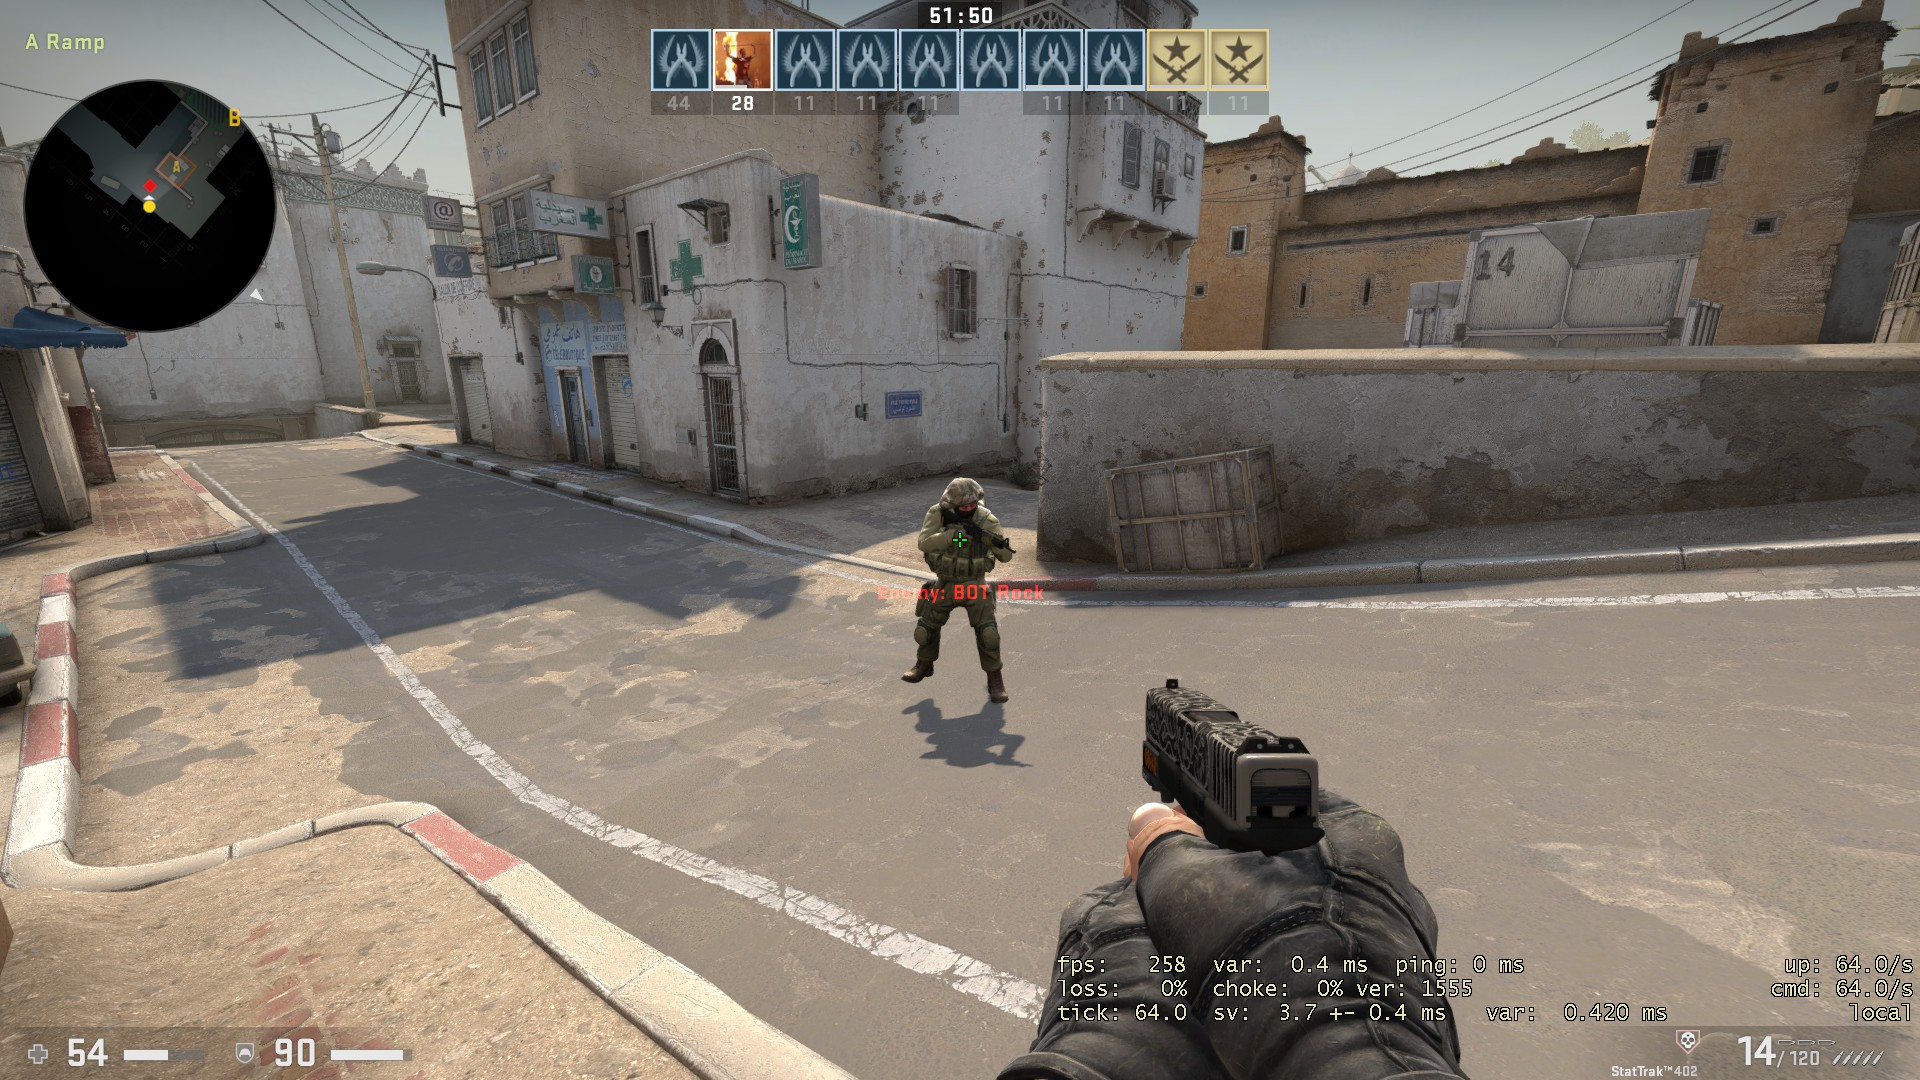ct: (897, 467, 1021, 708)
player: (897, 470, 1023, 708)
